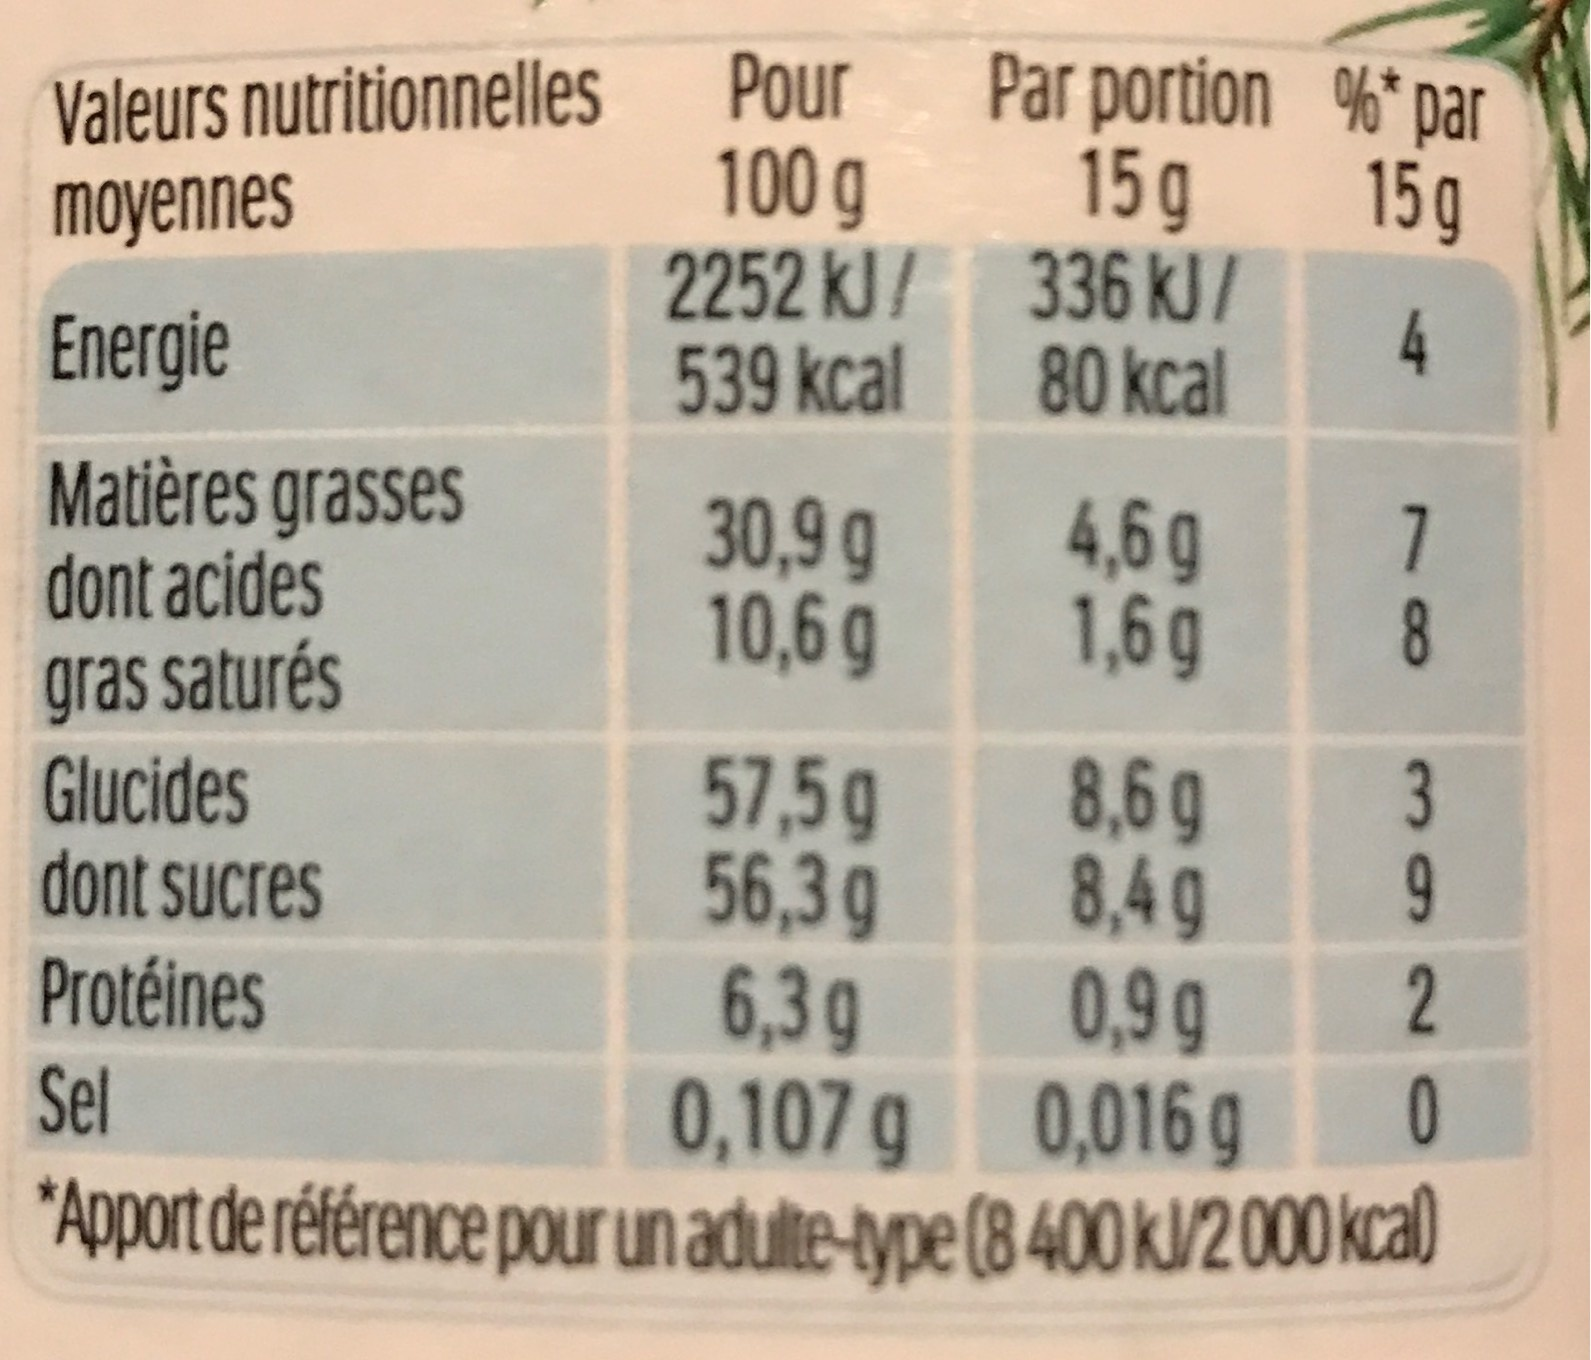column: (40, 281, 466, 1166), (663, 247, 918, 1170), (1024, 246, 1244, 1174), (1378, 250, 1457, 1164)
table: (13, 39, 1541, 1172)
